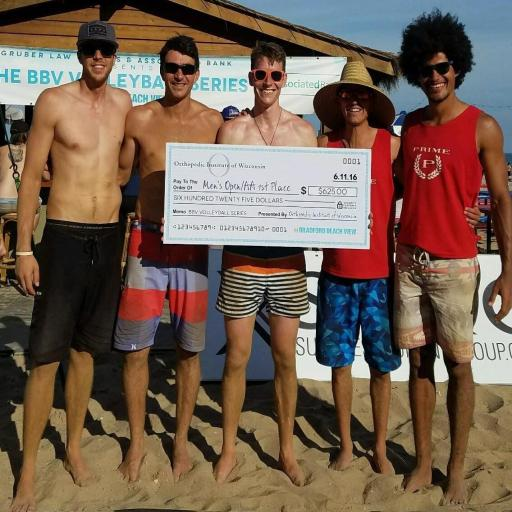person: (11, 21, 131, 511), (395, 11, 511, 503), (115, 36, 223, 481), (314, 62, 401, 474), (214, 246, 309, 485), (0, 120, 29, 215), (221, 106, 240, 120)
